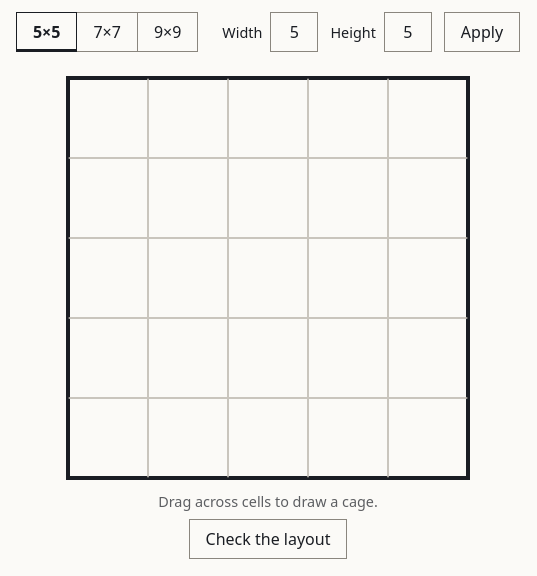
Test: checking the layout › reports an untouched grid as not started, and marks nothing
The width and height of the screenshot is (537, 576).
Click the button with test id "check-layout": (268, 539) top-left (189, 519), bottom-right (348, 559)
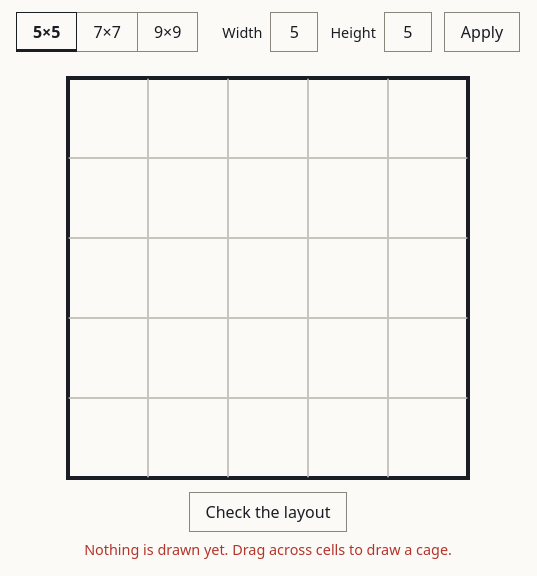
Check: the message with test id "validation-message" shows "Nothing is drawn yet", box top-left (84, 540), bottom-right (452, 559)
